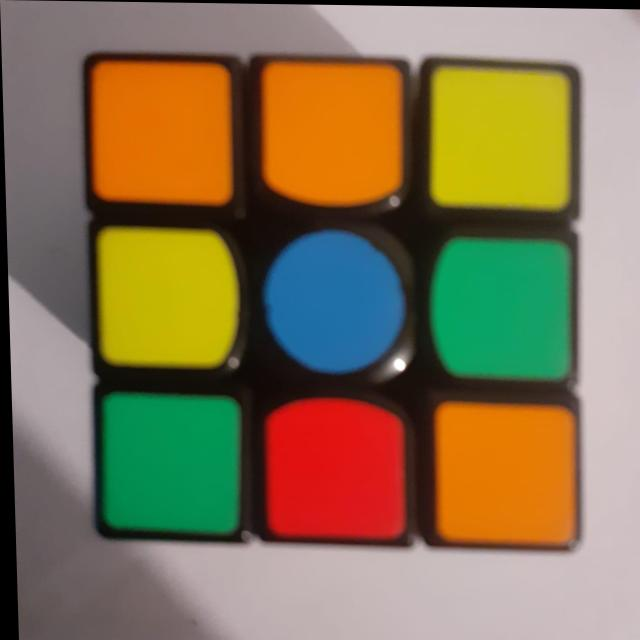Blue: (252, 222, 410, 377)
Green: (93, 388, 242, 540), (430, 231, 576, 381)
Orange: (425, 397, 579, 548), (85, 58, 233, 214), (253, 60, 401, 210)
Red: (256, 388, 404, 548)
Yellow: (424, 60, 564, 216), (92, 231, 240, 369)
